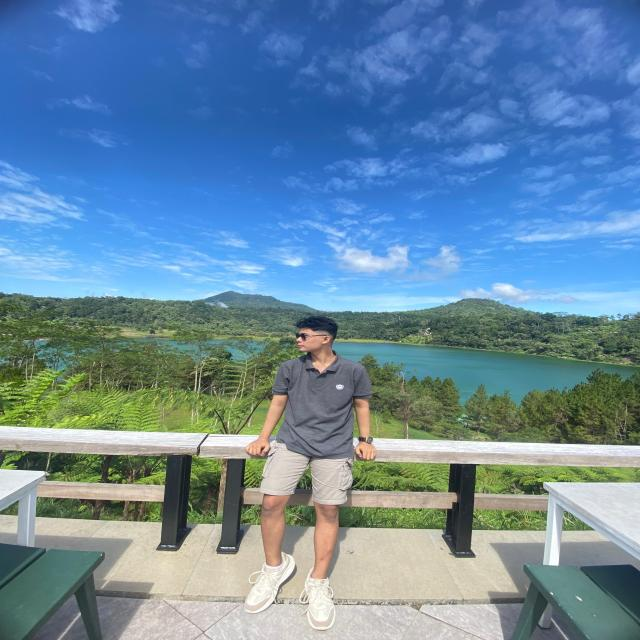nohelmet: (285, 310, 343, 364)
